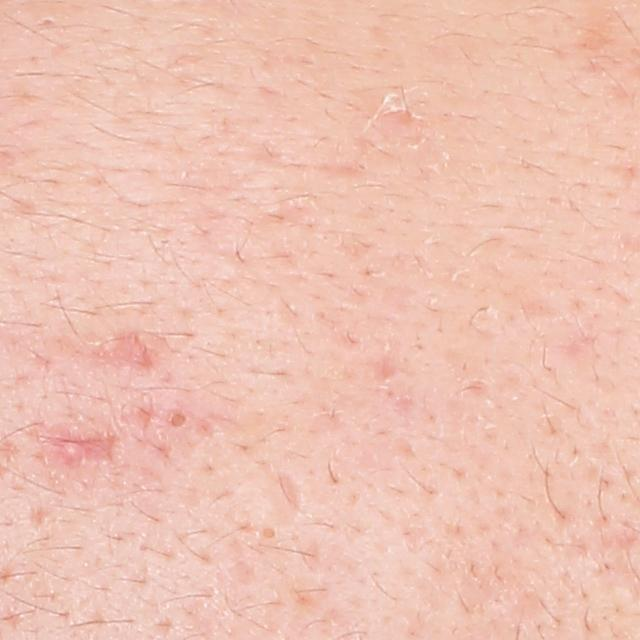atrophic_scar: (70, 332, 166, 388), (44, 434, 117, 461), (277, 470, 306, 514)
comedo: (162, 402, 194, 438), (254, 525, 284, 542)
